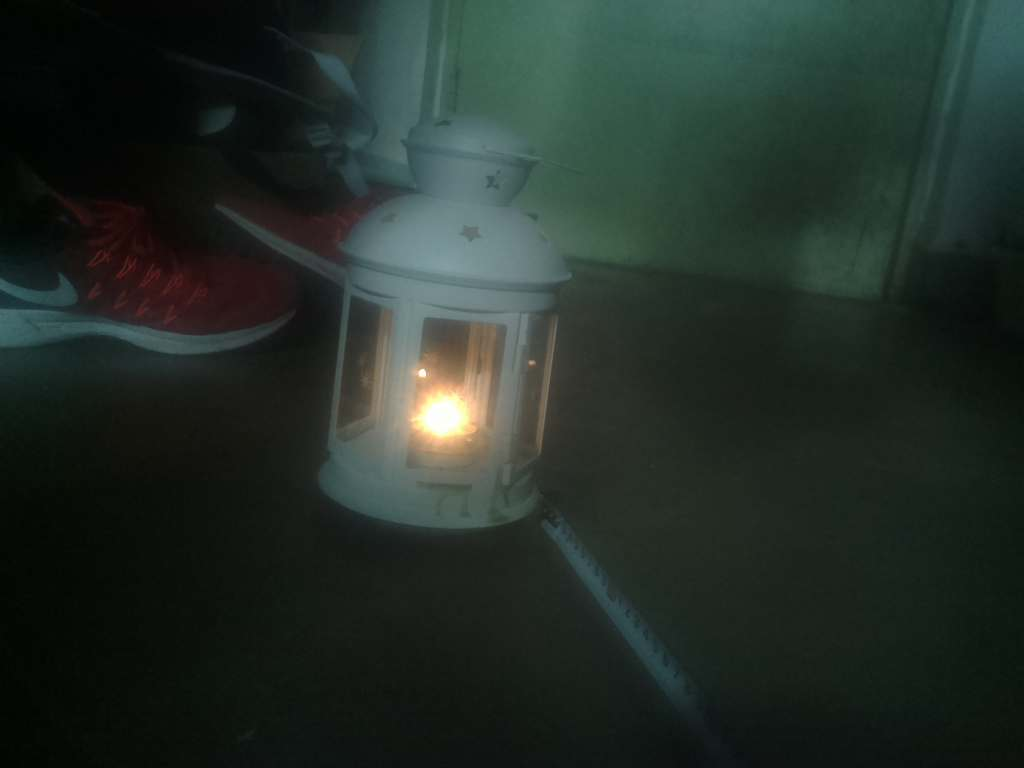fire: (394, 366, 528, 475)
